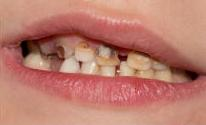Caries: (100, 44, 121, 65), (56, 43, 70, 61), (136, 51, 155, 64)
